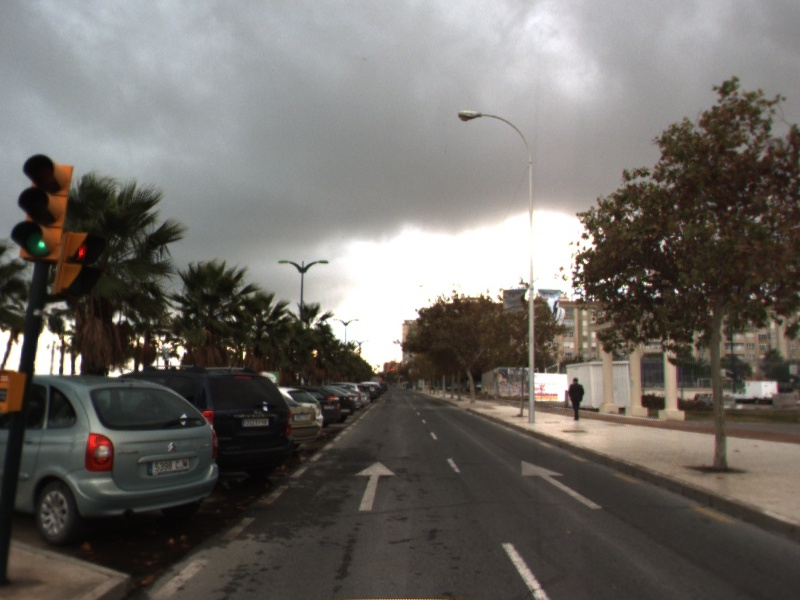STRAIGHT: (519, 459, 604, 510), (353, 460, 398, 512)
